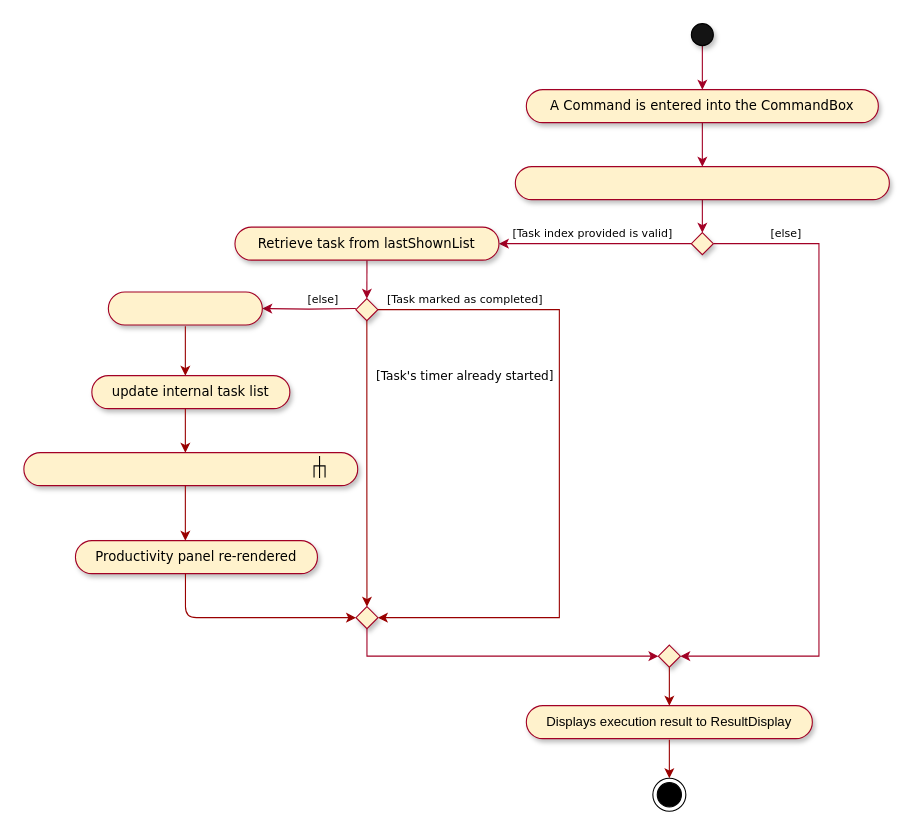
This 915x831 diagram has some shape labels left out. The centre of each missing label's shape, as x and y in pixels:
"JelphaBotParser identifies command as a start command" goes at pixel 703 184.
"set Productivity in ProductivityList" goes at pixel 191 470.
"Start timer for task" goes at pixel 186 310.
